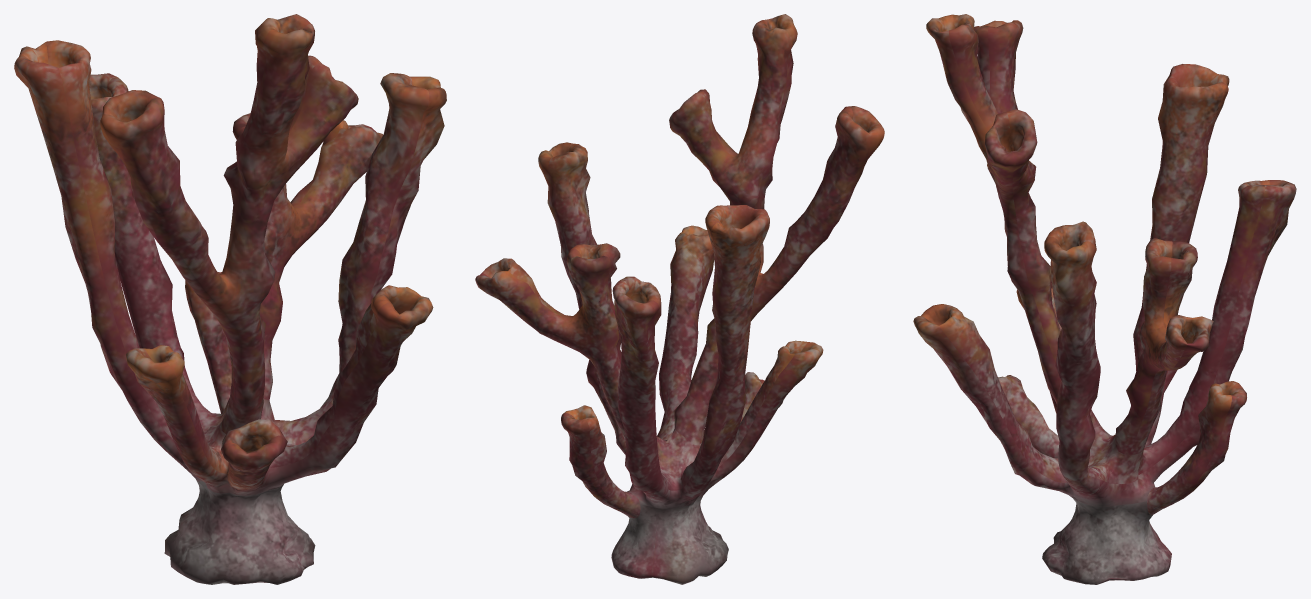
The model's file is coral tube_01.FBX.
The picture shows the model from 3 angles, left to right: view 1: azimuth 30°, elevation 25°; view 2: azimuth 150°, elevation 25°; view 3: azimuth 270°, elevation 25°; orthographic projection. The views are drawn at different scales.
Parts seen in each view (by area): view 1: coral tube_01; view 2: coral tube_01; view 3: coral tube_01.
Boxes of the visible parts, <box> form: coral tube_01: <box>14,14,446,584</box>; coral tube_01: <box>475,14,884,584</box>; coral tube_01: <box>913,14,1296,584</box>.
Bounding box in the file's own units: 24.63 × 24.59 × 37.33.
Materials: 1 (1 with a texture image).
